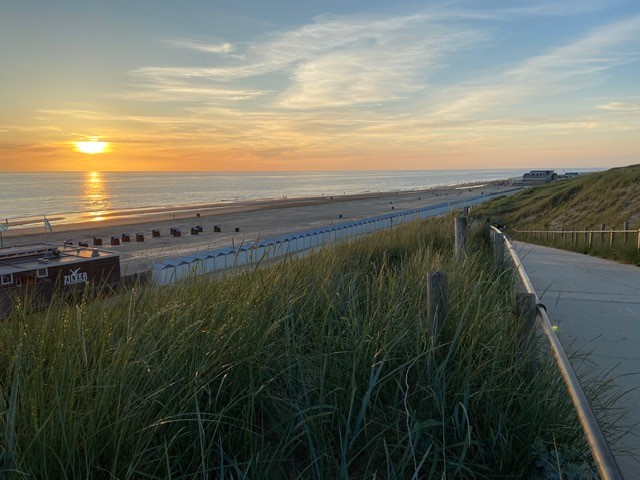pad: (484, 223, 640, 477)
